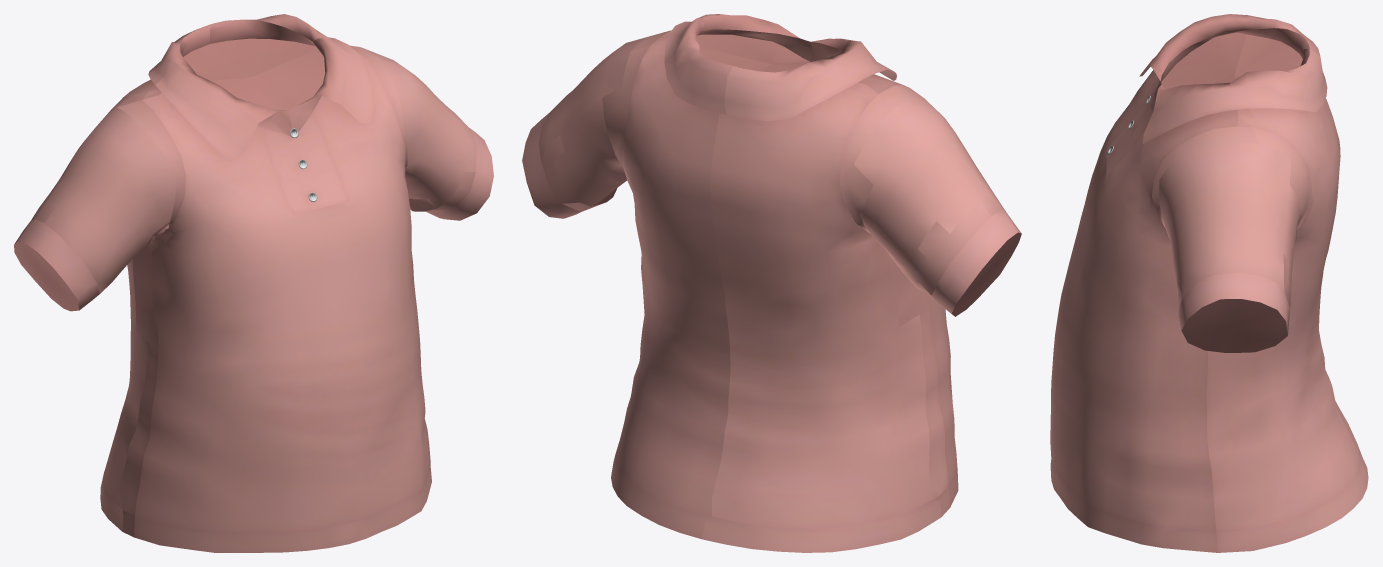
The model's file is top7.glb.
The picture shows the model from 3 angles, left to right: view 1: azimuth 30°, elevation 25°; view 2: azimuth 150°, elevation 25°; view 3: azimuth 270°, elevation 25°; orthographic projection. The views are drawn at different scales.
Visible parts, largest first — view 1: s4studio_mesh_1; view 2: s4studio_mesh_1; view 3: s4studio_mesh_1.
Part boxes in pixels (x1,y1,x2,y2): s4studio_mesh_1: (14, 14, 493, 552); s4studio_mesh_1: (522, 14, 1021, 552); s4studio_mesh_1: (1050, 14, 1368, 552).
Bounding box in the file's own units: 0.3254 × 0.3062 × 0.199.
Materials: 1 (1 with a texture image).
